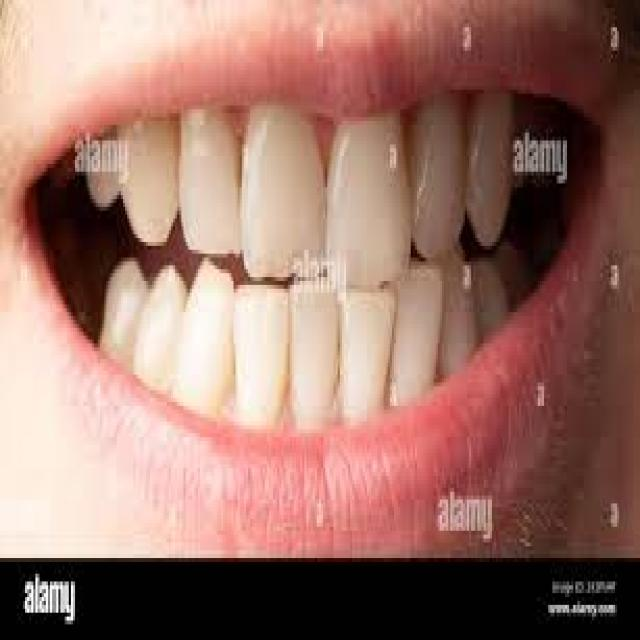tooth: (246, 86, 329, 277), (333, 101, 417, 281), (402, 86, 471, 261), (181, 105, 244, 254), (242, 266, 290, 434), (194, 262, 238, 418), (471, 86, 511, 254), (292, 289, 342, 421), (346, 285, 394, 421), (127, 129, 179, 246), (148, 254, 186, 398), (446, 265, 492, 375), (396, 285, 440, 398), (106, 257, 140, 363), (83, 144, 123, 203)
